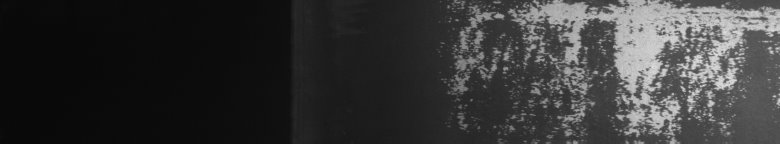kb: (444, 4, 776, 136)
